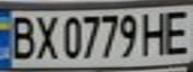0: (60, 12, 81, 60)
7: (78, 11, 103, 61), (100, 11, 121, 60)
9: (118, 10, 142, 58)
B: (3, 12, 39, 61)
E: (160, 6, 193, 56)
H: (136, 8, 172, 56)
X: (30, 12, 60, 61)
